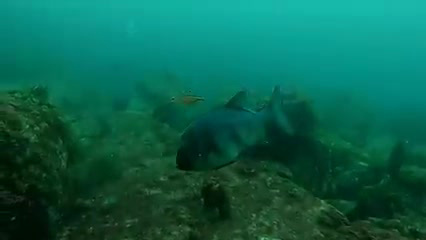smallfish: (165, 84, 302, 176)
